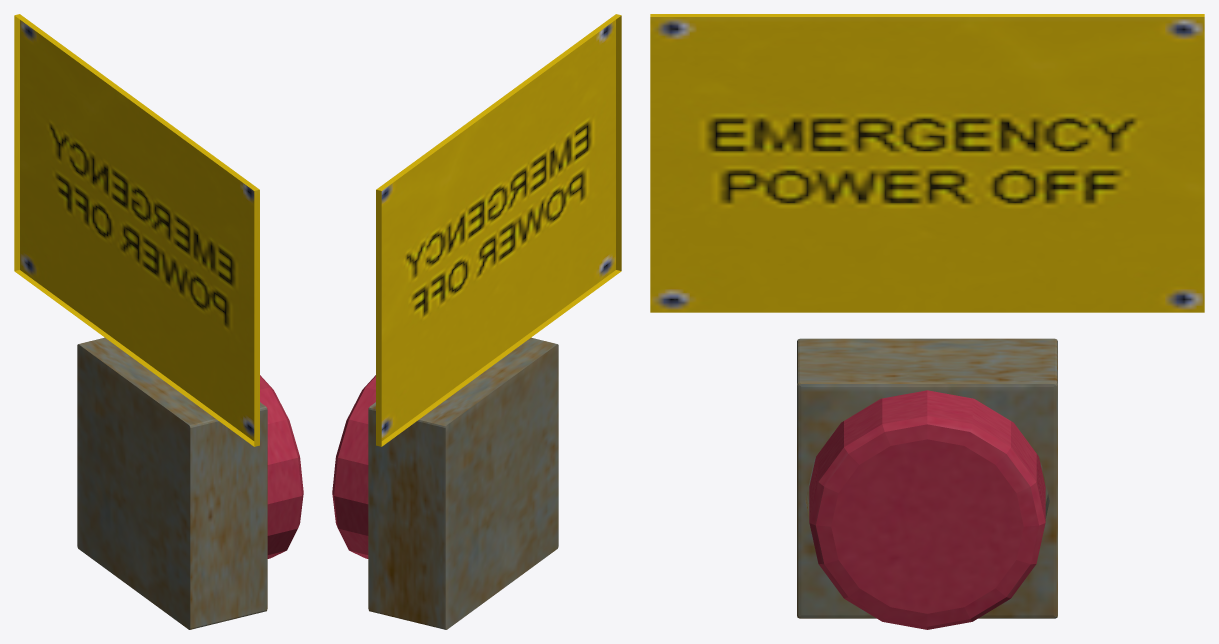
Rendered from Boton emergencia.fbx.
3 renders of one model, left to right at view 1: azimuth 30°, elevation 25°; view 2: azimuth 150°, elevation 25°; view 3: azimuth 270°, elevation 25°, orthographic. The views are drawn at different scales.
Parts seen in each view (by area): view 1: Cartel, Base boton, Boton; view 2: Cartel, Base boton, Boton; view 3: Cartel, Boton, Base boton.
Boxes of the visible parts, x1,y1,x2,y2 form: Cartel: (14,14,259,446); Base boton: (77,337,267,629); Boton: (260,375,303,558); Cartel: (376,14,621,446); Base boton: (368,337,558,629); Boton: (332,375,375,558); Cartel: (650,14,1204,312); Boton: (809,390,1045,629); Base boton: (797,338,1057,618).
Size of the model in its own units: 10.1 by 38 by 34.
